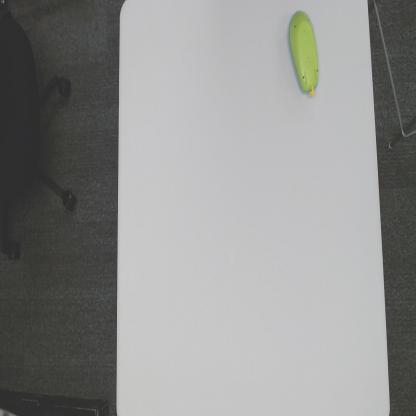Boat: (286, 8, 320, 99)
